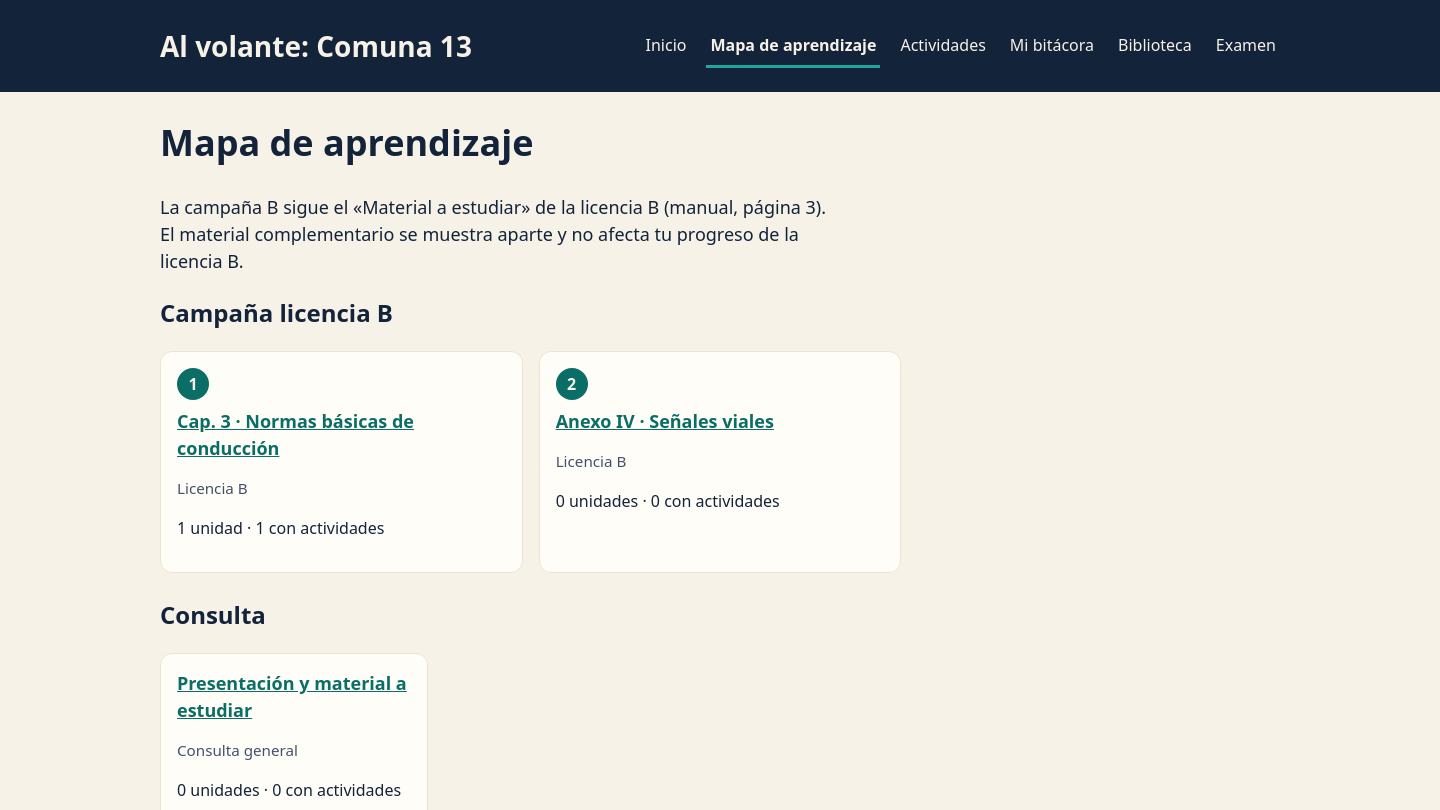
learning map › opens a section with its units and links to their source pages
Click the link "Cap. 3 · Normas básicas de conducción" at (295, 421), box [177,409,414,460]
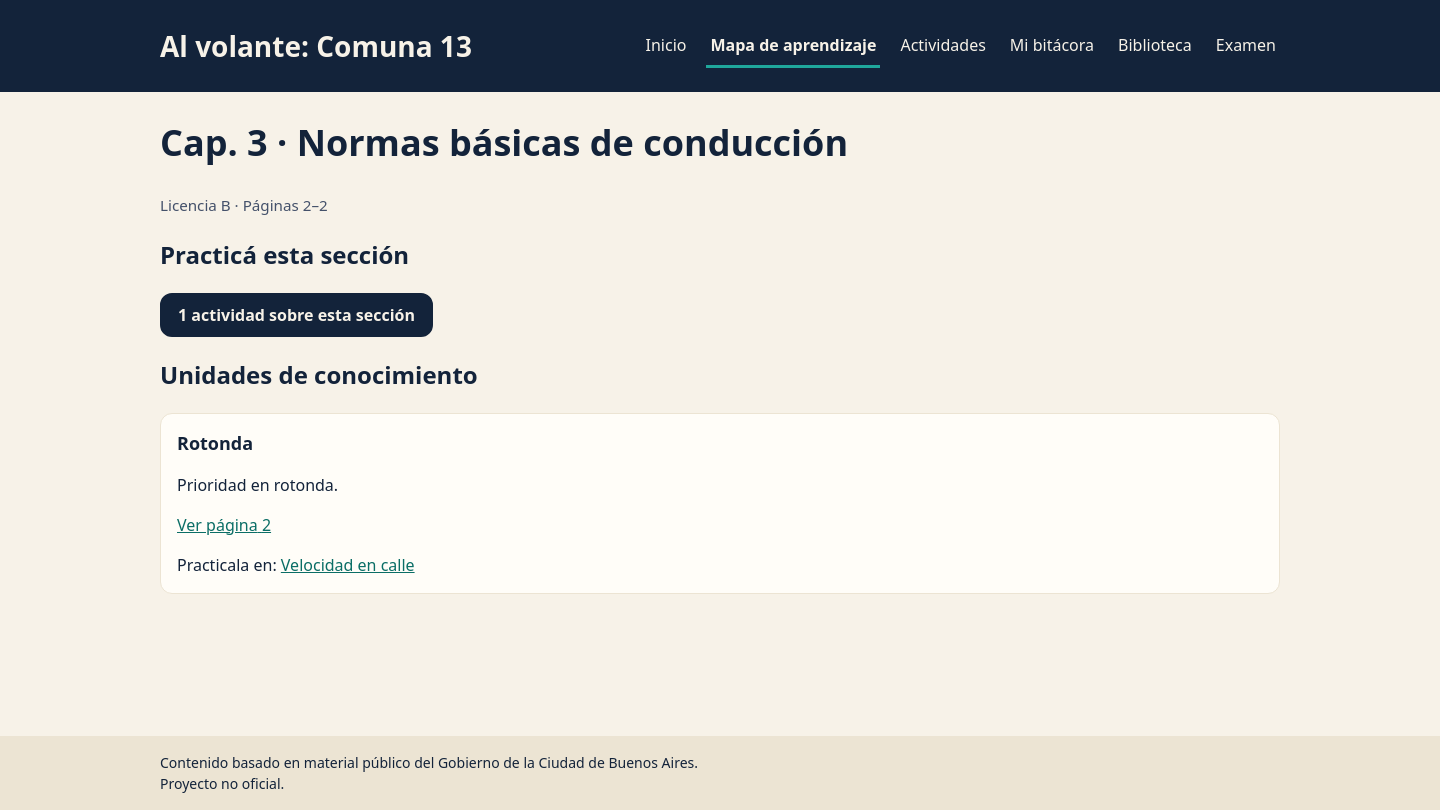
Result: the heading "Cap. 3 · Normas básicas de conducción" is shown at [160,118,848,167]
Result: the heading "Rotonda" is shown at [177,430,253,454]
